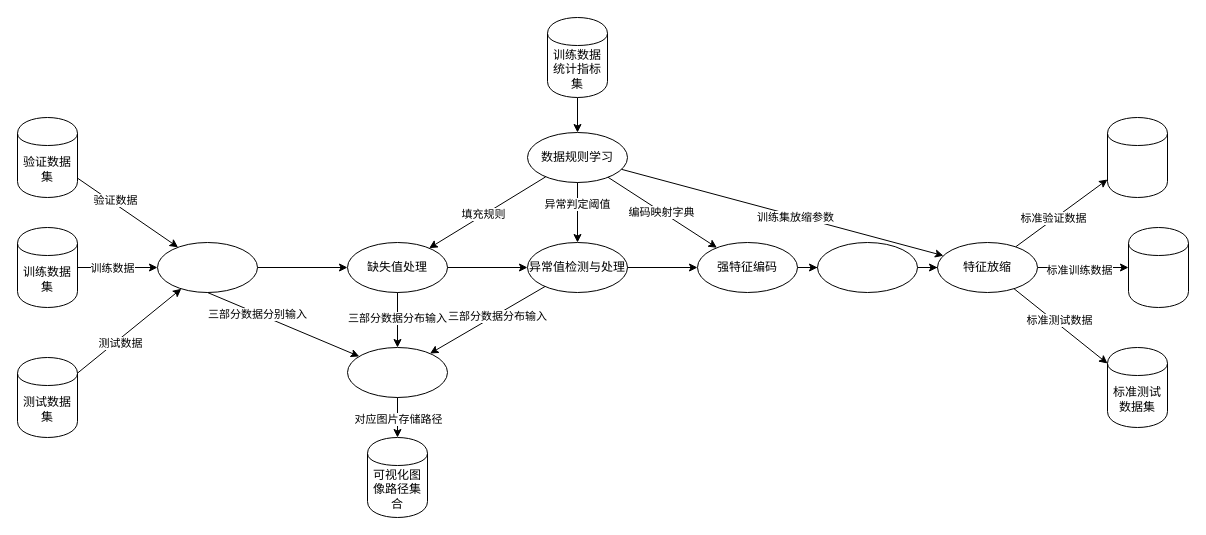
Some shapes in this 1206 by 535 pixel diagram are drawn without their labels. The centre of each missing label's shape, as x and y in pixels:
"可视化" goes at (x=397, y=372).
"标准训练数据集" goes at (x=1158, y=267).
"标准验证数据集" goes at (x=1137, y=157).
"特征构造" goes at (x=867, y=267).
"重复值处理" goes at (x=207, y=267).
